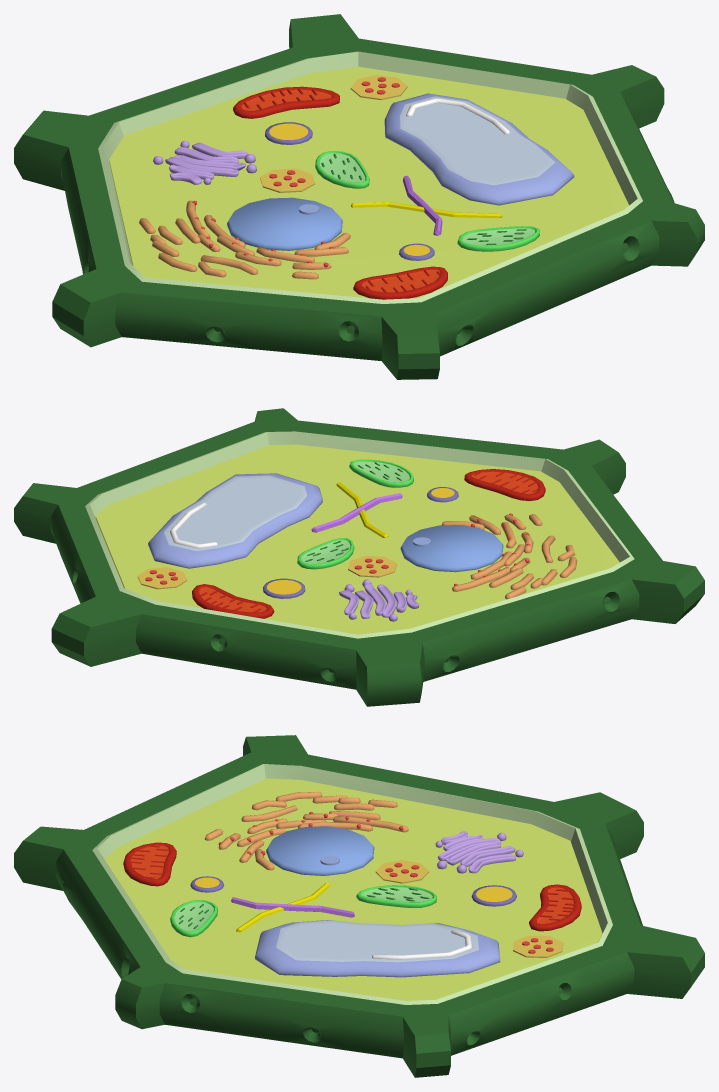
The model's file is BioWorkspace2.gltf.
3 renders of one model, top to bottom at view 1: azimuth 30°, elevation 25°; view 2: azimuth 150°, elevation 25°; view 3: azimuth 270°, elevation 25°, orthographic. The views are drawn at different scales.
Visible parts, largest first — view 1: CellWall001, Plane002, Membrane, Plane004_2, Plane004_1, Nukleus, RE, Sphere003, Mitochondria004, RE001, Circle, Mitochondria001 (+7 smaller); view 2: CellWall001, Plane002, Membrane, Plane004_2, Plane004_1, Nukleus, RE, Sphere003, Mitochondria004, Circle, Mitochondria001, RE001 (+6 smaller); view 3: CellWall001, Plane002, Membrane, Plane004_2, Plane004_1, Nukleus, RE, Sphere003, RE001, Mitochondria004, Circle, Mitochondria001 (+8 smaller).
Boxes of the visible parts, bbox=[...] form: CellWall001: bbox=[14, 14, 704, 379]; Plane002: bbox=[109, 66, 628, 298]; Membrane: bbox=[98, 51, 642, 303]; Plane004_2: bbox=[400, 96, 555, 185]; Plane004_1: bbox=[384, 93, 574, 205]; Nukleus: bbox=[227, 197, 342, 250]; RE: bbox=[186, 200, 350, 279]; Sphere003: bbox=[153, 140, 256, 184]; Mitochondria004: bbox=[233, 86, 447, 299]; RE001: bbox=[139, 218, 257, 277]; Circle: bbox=[260, 75, 407, 192]; Mitochondria001: bbox=[241, 89, 439, 292]; CellWall001: bbox=[14, 408, 704, 706]; Plane002: bbox=[95, 444, 619, 634]; Membrane: bbox=[85, 431, 634, 638]; Plane004_2: bbox=[164, 475, 307, 550]; Plane004_1: bbox=[148, 473, 322, 568]; Nukleus: bbox=[400, 525, 503, 572]; RE: bbox=[442, 514, 542, 591]; Sphere003: bbox=[339, 579, 419, 621]; Mitochondria004: bbox=[192, 469, 545, 618]; Circle: bbox=[137, 555, 396, 589]; Mitochondria001: bbox=[199, 471, 538, 612]; RE001: bbox=[489, 535, 576, 599]; CellWall001: bbox=[14, 735, 704, 1077]; Plane002: bbox=[104, 778, 602, 1000]; Membrane: bbox=[92, 764, 612, 1004]; Plane004_2: bbox=[276, 920, 478, 962]; Plane004_1: bbox=[255, 920, 500, 977]; Nukleus: bbox=[266, 826, 374, 875]; RE: bbox=[204, 813, 408, 870]; Sphere003: bbox=[435, 831, 523, 873]; RE001: bbox=[241, 792, 397, 821]; Mitochondria004: bbox=[123, 842, 581, 931]; Circle: bbox=[375, 860, 563, 957]; Mitochondria001: bbox=[131, 845, 574, 924].
Size of the model in its own units: 15.27 by 1.04 by 14.43.
